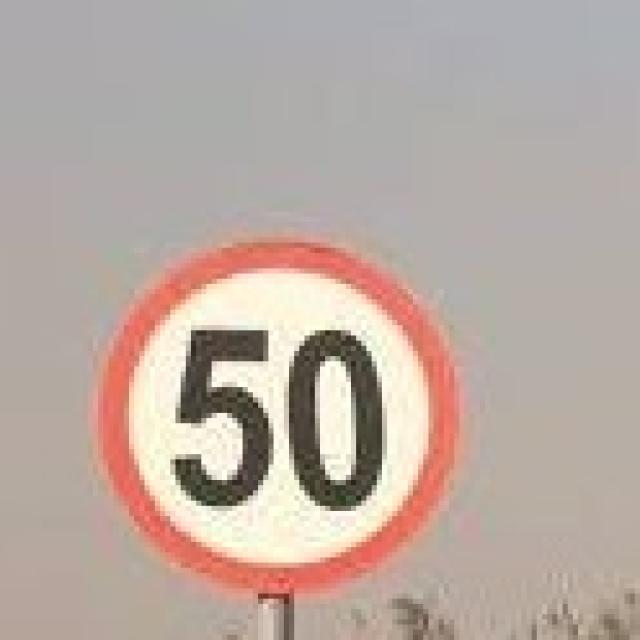Limite-50: (92, 234, 466, 594)
